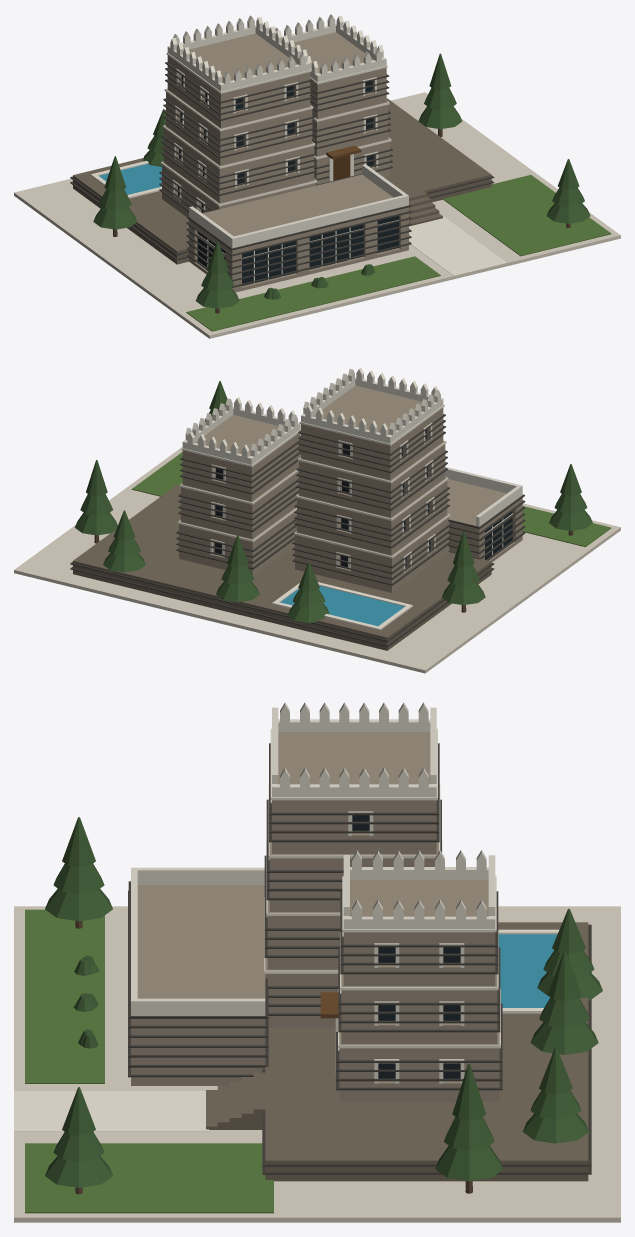
The model's file is bahi.glb.
3 renders of one model, top to bottom at view 1: azimuth 30°, elevation 25°; view 2: azimuth 150°, elevation 25°; view 3: azimuth 270°, elevation 25°, orthographic. The views are drawn at different scales.
Parts seen in each view (by area): view 1: Bahi_stone, Bahi_pave, Bahi_quartz, Bahi_slate, Bahi_lawn, Bahi_stone_d, Bahi_leaf, Bahi_glass, Bahi_coping, Bahi_water; view 2: Bahi_stone, Bahi_pave, Bahi_stone_d, Bahi_slate, Bahi_quartz, Bahi_leaf, Bahi_lawn, Bahi_water, Bahi_glass, Bahi_coping; view 3: Bahi_stone, Bahi_pave, Bahi_stone_d, Bahi_lawn, Bahi_quartz, Bahi_leaf, Bahi_slate, Bahi_coping, Bahi_water, Bahi_glass.
Part boxes in pixels (left/top/right/bottom): Bahi_stone: left=162, top=32, right=408, bottom=292; Bahi_pave: left=14, top=92, right=620, bottom=338; Bahi_quartz: left=161, top=14, right=408, bottom=283; Bahi_slate: left=70, top=62, right=494, bottom=287; Bahi_lawn: left=186, top=175, right=611, bottom=331; Bahi_stone_d: left=73, top=98, right=491, bottom=264; Bahi_leaf: left=93, top=53, right=590, bottom=308; Bahi_glass: left=178, top=76, right=398, bottom=285; Bahi_coping: left=90, top=161, right=506, bottom=275; Bahi_water: left=99, top=163, right=161, bottom=194; Bahi_stone: left=179, top=385, right=522, bottom=592; Bahi_pave: left=14, top=447, right=620, bottom=673; Bahi_stone_d: left=73, top=485, right=491, bottom=650; Bahi_slate: left=70, top=414, right=525, bottom=646; Bahi_quartz: left=177, top=367, right=522, bottom=572; Bahi_leaf: left=75, top=381, right=592, bottom=622; Bahi_lawn: left=131, top=452, right=611, bottom=546; Bahi_water: left=280, top=586, right=404, bottom=626; Bahi_glass: left=214, top=430, right=512, bottom=567; Bahi_coping: left=272, top=582, right=412, bottom=630; Bahi_stone: left=131, top=732, right=499, bottom=1101; Bahi_pave: left=14, top=906, right=620, bottom=1222; Bahi_stone_d: left=206, top=922, right=588, bottom=1181; Bahi_lawn: left=25, top=909, right=273, bottom=1213; Bahi_quartz: left=131, top=702, right=500, bottom=1083; Bahi_leaf: left=45, top=817, right=602, bottom=1187; Bahi_slate: left=128, top=743, right=591, bottom=1174; Bahi_coping: left=14, top=929, right=559, bottom=1131; Bahi_water: left=498, top=934, right=557, bottom=1007; Bahi_glass: left=352, top=815, right=460, bottom=1078.
Bounding box in the file's own units: 34 × 14.27 × 28.
